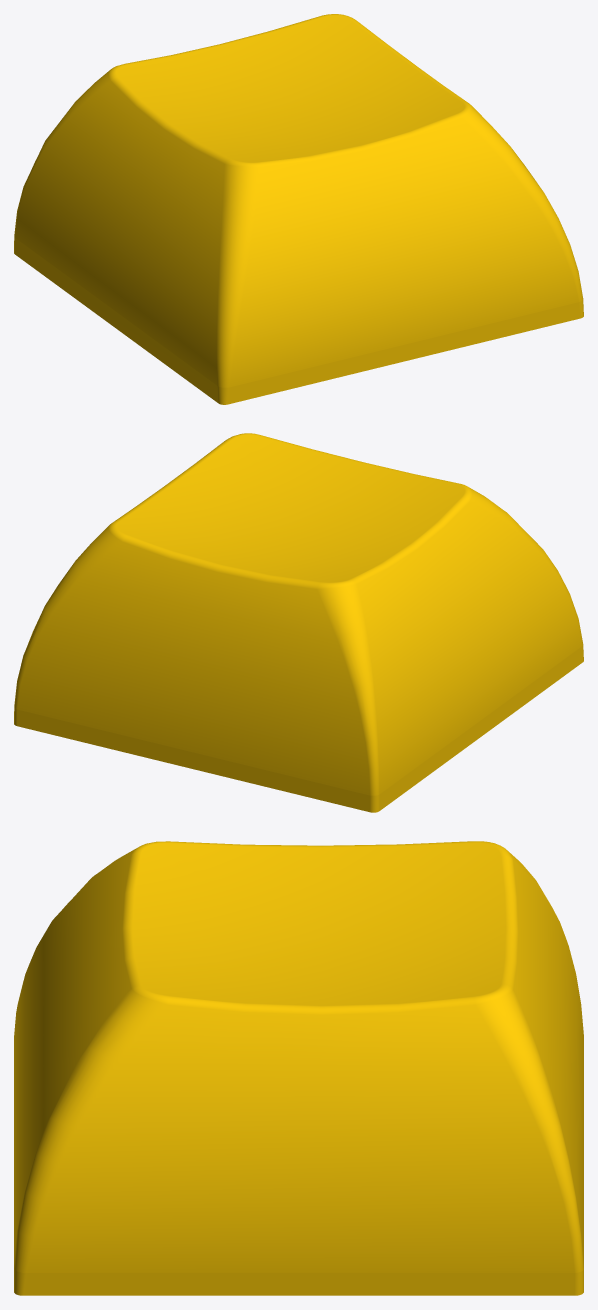
The model's file is KAT_1u_r3.glb.
3 renders of one model, top to bottom at view 1: azimuth 30°, elevation 25°; view 2: azimuth 150°, elevation 25°; view 3: azimuth 270°, elevation 25°, orthographic. The views are drawn at different scales.
Visible parts, largest first — view 1: Object.022; view 2: Object.022; view 3: Object.022.
Part boxes in pixels (box(x1,y1,x2,y2)): Object.022: box(14, 14, 583, 404); Object.022: box(14, 433, 583, 812); Object.022: box(14, 841, 583, 1295).
Size of the model in its own units: 18.2 by 9.06 by 18.2.
